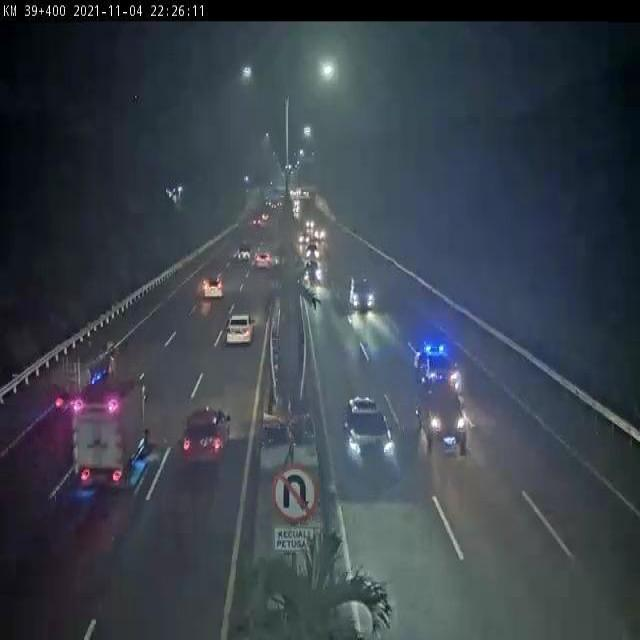car: (410, 539, 500, 632), (158, 432, 220, 516), (203, 310, 268, 374), (42, 552, 92, 635), (587, 581, 640, 640), (335, 360, 381, 424), (409, 371, 460, 425), (173, 276, 231, 321), (234, 244, 280, 285), (217, 246, 250, 286), (391, 316, 417, 348), (335, 257, 354, 283), (355, 293, 376, 315), (238, 222, 258, 238), (298, 220, 310, 244), (297, 240, 314, 256), (411, 488, 413, 489)
truck-l-: (31, 349, 83, 434)
truck-m-: (74, 368, 162, 499)
